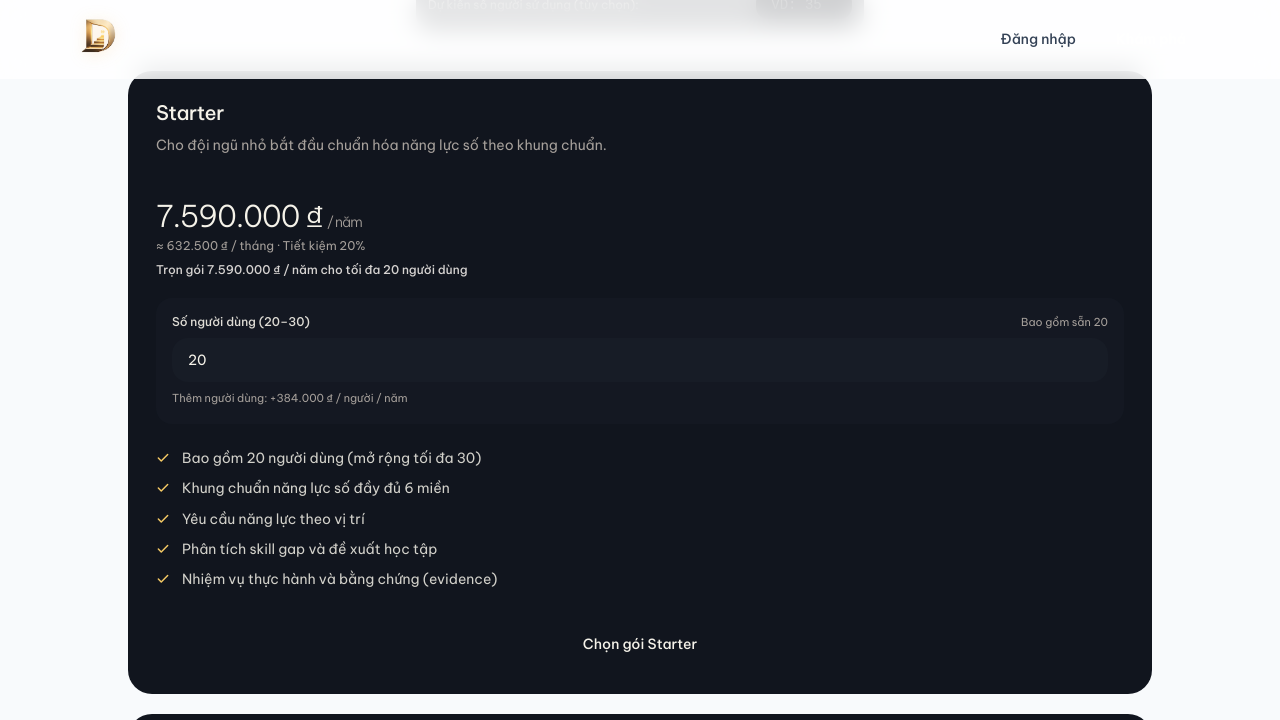
enterprise pricing (PUB-04) › keeps users inside what the plan allows once the field is left
(page scrolled)
Replace the text in the number field labelled "Số người dùng (20–30)" with "500". click: (640, 360)
box: [172,338,1108,382]
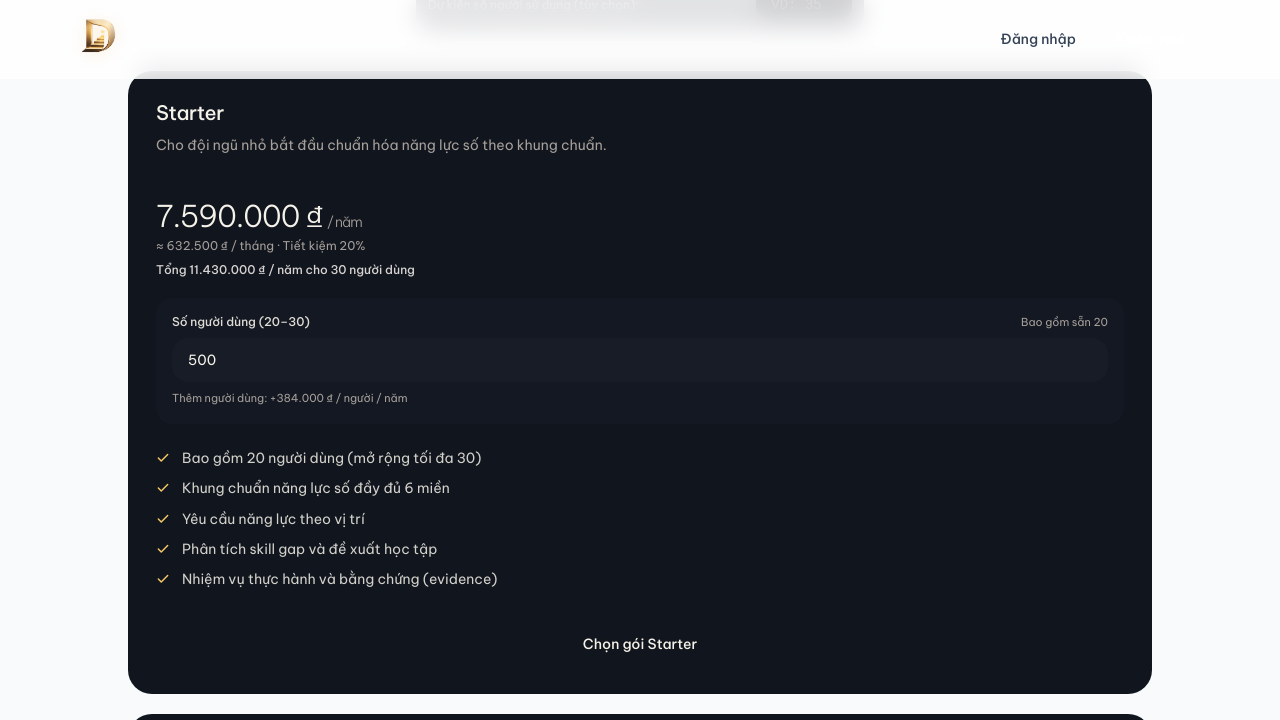
Leave the number field labelled "Số người dùng (20–30)", box [172,338,1108,382]
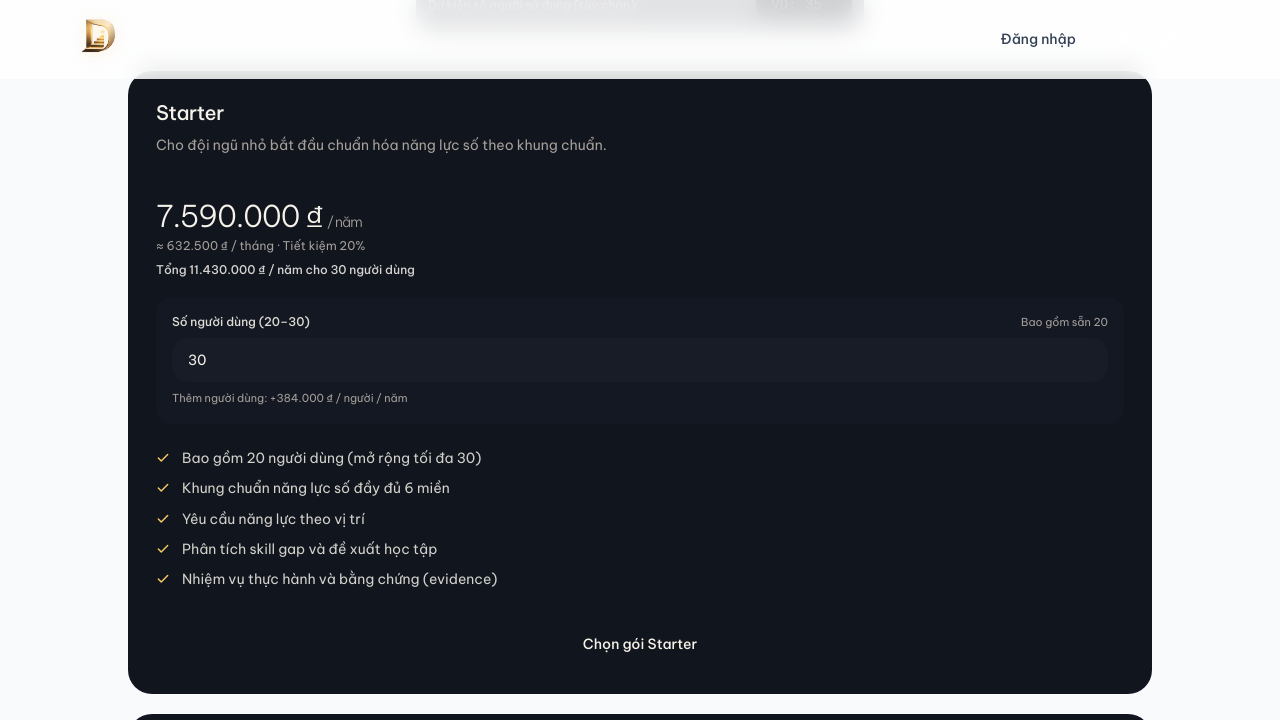
Expected: the text "Tổng 11.430.000 ₫ / năm cho 30 người dùng" is shown, [156,262,415,277]
Expected: the number field labelled "Số người dùng (20–30)" holds "30", [172,338,1108,382]
